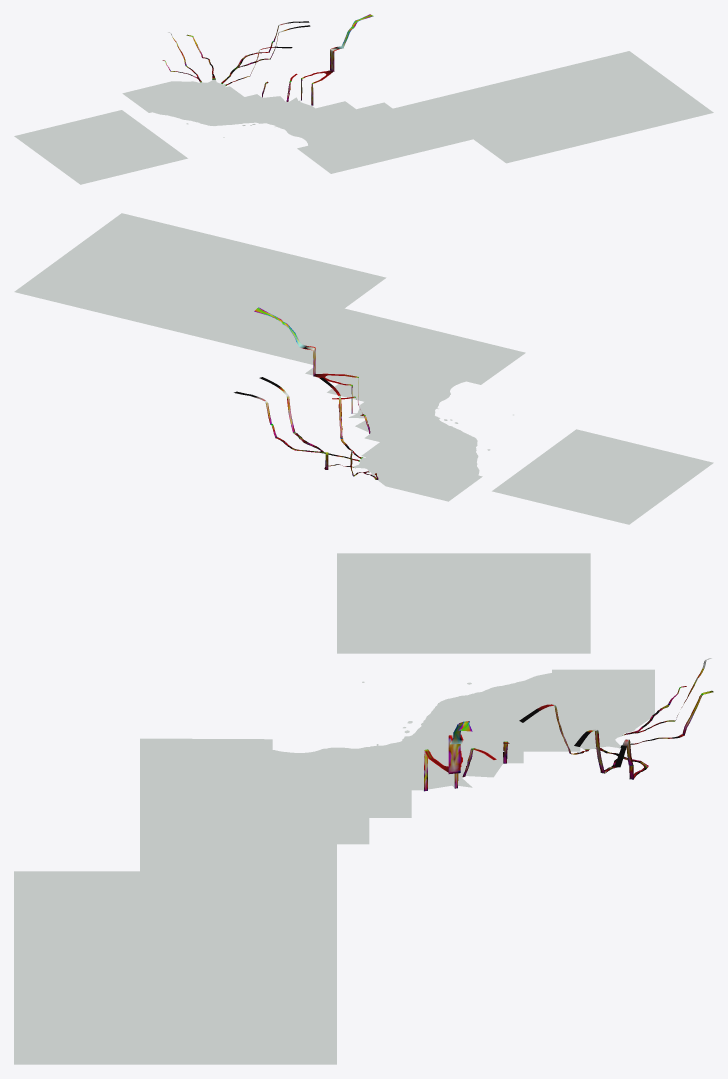
3 renders of one model, top to bottom at view 1: azimuth 30°, elevation 25°; view 2: azimuth 150°, elevation 25°; view 3: azimuth 270°, elevation 25°, orthographic. The views are drawn at different scales.
Parts seen in each view (by area): view 1: G:\FFXIV-MapTools\exports\n4f4\bg\ex3\01_nvt_n4\fld\n4f4\bgp (×4); view 2: G:\FFXIV-MapTools\exports\n4f4\bg\ex3\01_nvt_n4\fld\n4f4\bgp (×4); view 3: G:\FFXIV-MapTools\exports\n4f4\bg\ex3\01_nvt_n4\fld\n4f4\bgp (×3).
Boxes of the visible parts, x1,y1,x2,y2 form: G:\FFXIV-MapTools\exports\n4f4\bg\ex3\01_nvt_n4\fld\n4f4\bgp (×4): (14,14,713,184); G:\FFXIV-MapTools\exports\n4f4\bg\ex3\01_nvt_n4\fld\n4f4\bgp (×4): (14,213,713,524); G:\FFXIV-MapTools\exports\n4f4\bg\ex3\01_nvt_n4\fld\n4f4\bgp (×3): (14,553,711,1064).
Bounding box in the file's own units: 4805 × 552 × 2779.
